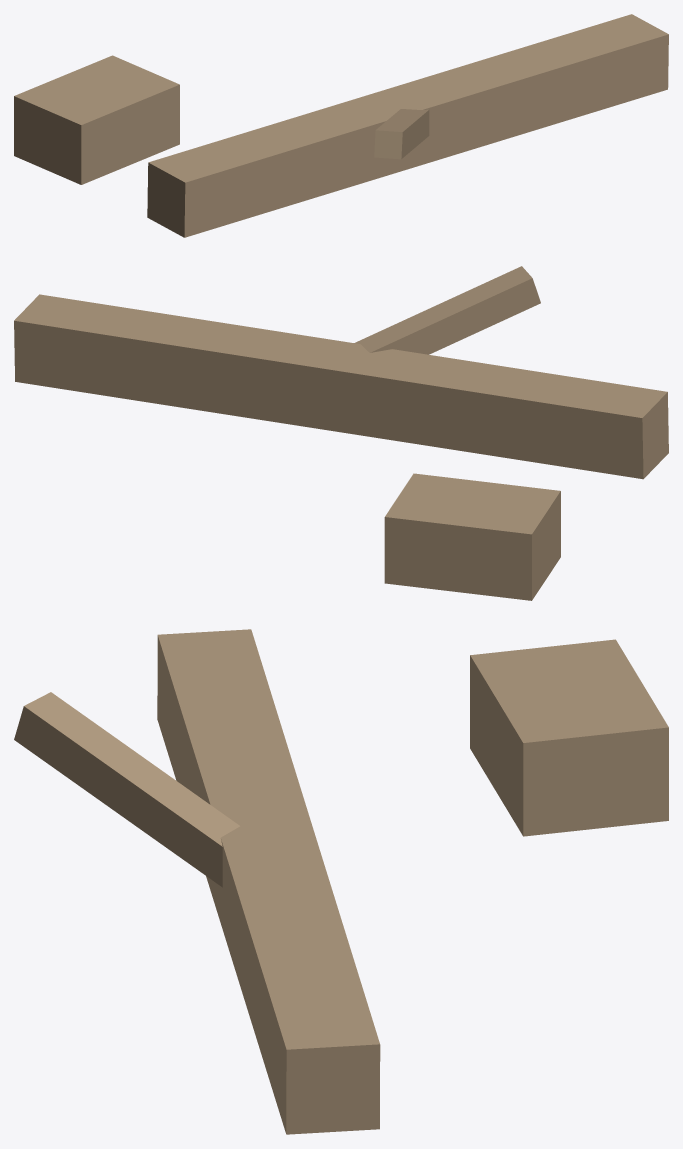
File: NAT_Driftwood.fbx
3 views of the same model, one above another, from view 1: azimuth 30°, elevation 25°; view 2: azimuth 150°, elevation 25°; view 3: azimuth 270°, elevation 25° (orthographic). The views are drawn at different scales.
Visible parts, largest first — view 1: NAT_Driftwood_ENV_Wood; view 2: NAT_Driftwood_ENV_Wood; view 3: NAT_Driftwood_ENV_Wood.
Boxes of the visible parts, left/top/right/bottom form: NAT_Driftwood_ENV_Wood: left=14, top=14, right=668, bottom=237; NAT_Driftwood_ENV_Wood: left=14, top=266, right=668, bottom=600; NAT_Driftwood_ENV_Wood: left=14, top=629, right=668, bottom=1134.
Bounding box in the file's own units: 230 × 45.78 × 152.
